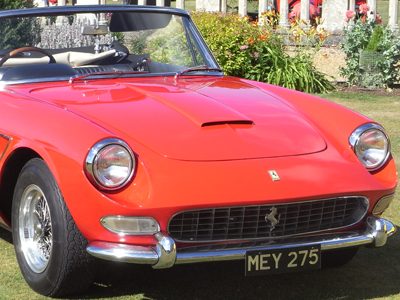licencePlate: (247, 246, 325, 274)
